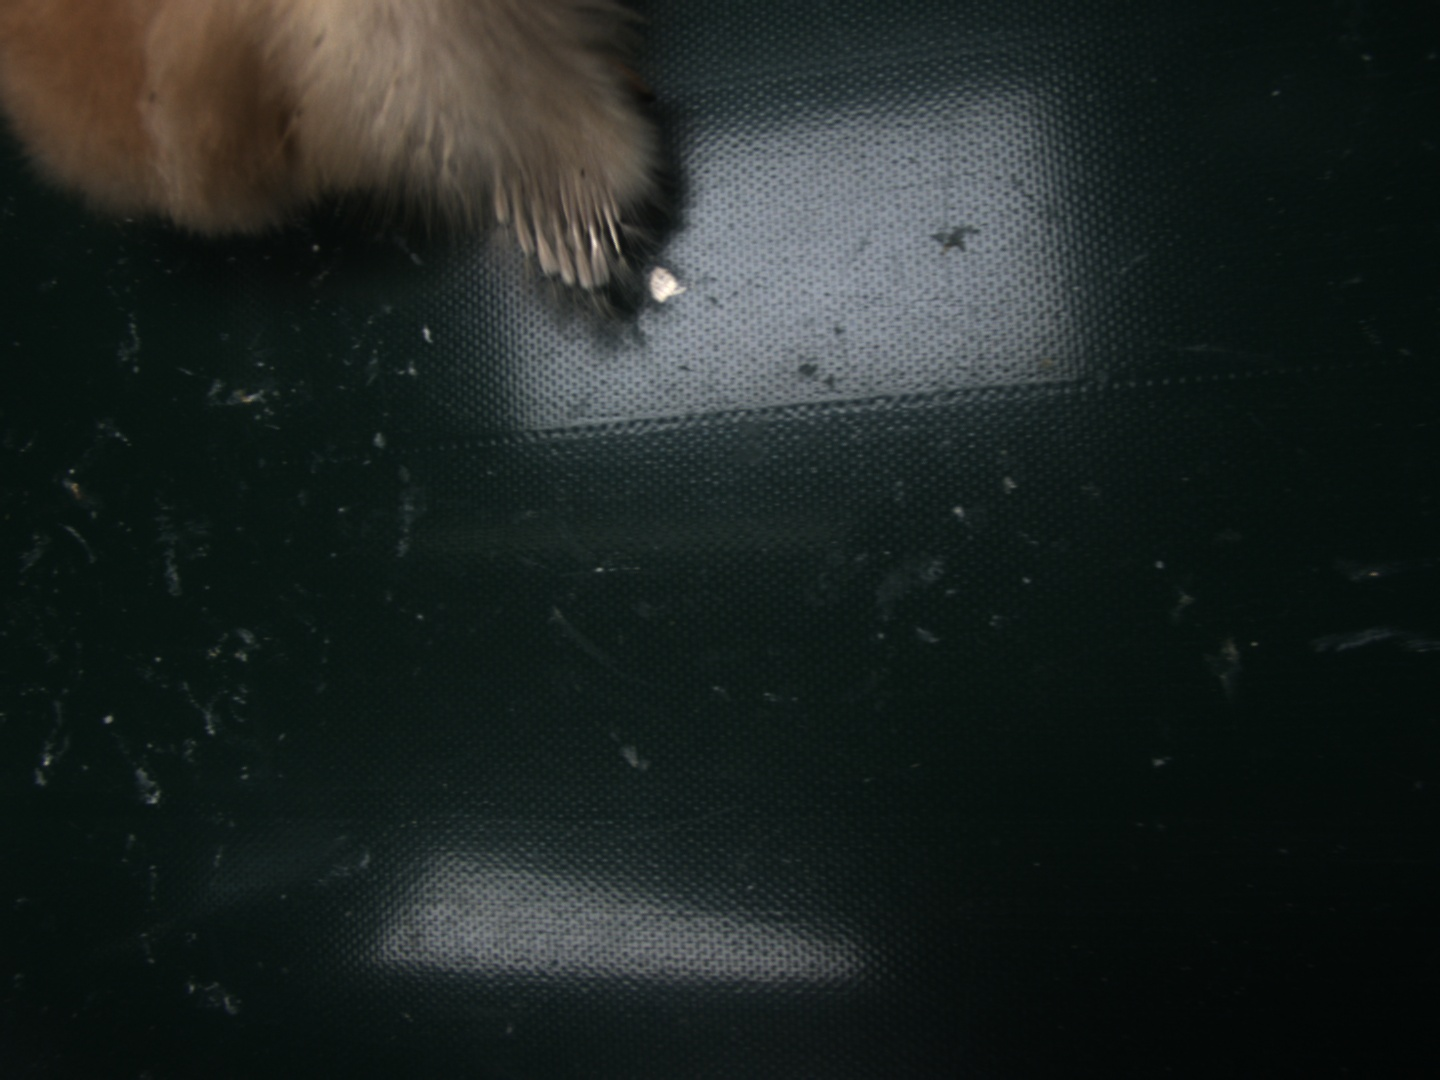female: (488, 149, 629, 289)
